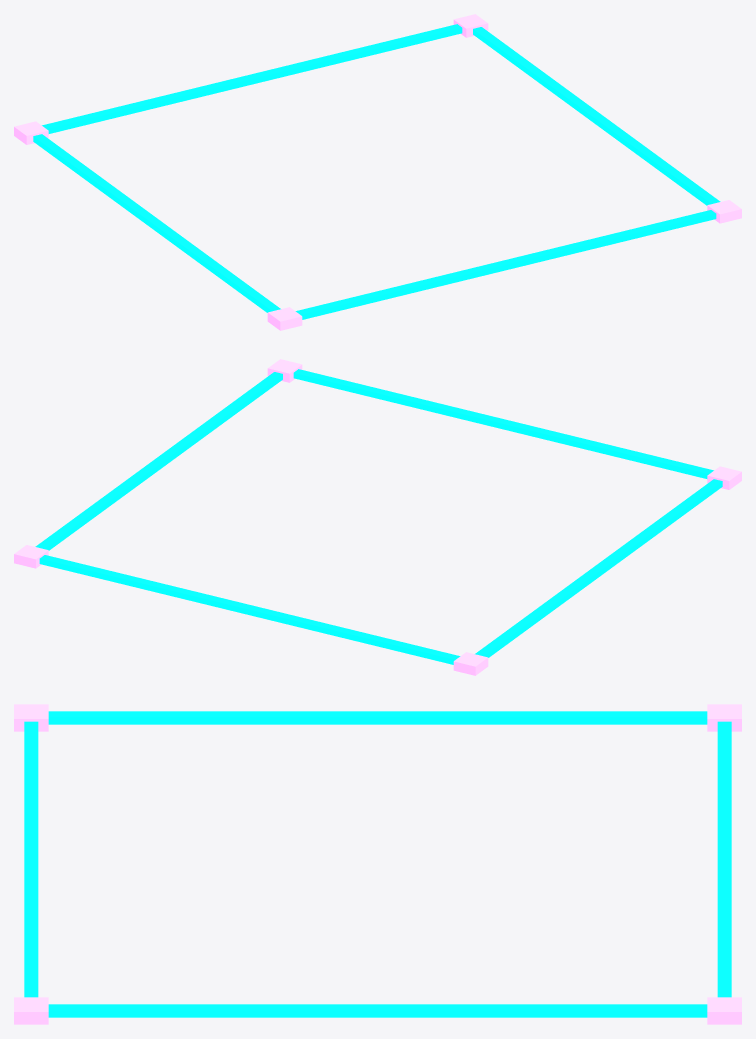
File: Build_ScanFrame.fbx
3 renders of one model, top to bottom at view 1: azimuth 30°, elevation 25°; view 2: azimuth 150°, elevation 25°; view 3: azimuth 270°, elevation 25°, orthographic. The views are drawn at different scales.
Parts seen in each view (by area): view 1: Scan_Bar1, Scan_Bar0, Scan_Bar3, Scan_Bar2, Scan_Corner3, Scan_Corner1, Scan_Corner2; view 2: Scan_Bar0, Scan_Bar1, Scan_Bar3, Scan_Bar2, Scan_Corner2, Scan_Corner0, Scan_Corner3; view 3: Scan_Bar2, Scan_Bar3, Scan_Bar0, Scan_Bar1, Scan_Corner0, Scan_Corner1, Scan_Corner2, Scan_Corner3.
Part boxes in pixels (box(x1,y1,x2,y2)): Scan_Bar1: box(295, 210, 716, 319); Scan_Bar0: box(42, 24, 462, 133); Scan_Bar3: box(33, 134, 280, 312); Scan_Bar2: box(473, 27, 720, 205); Scan_Corner3: box(267, 307, 302, 330); Scan_Corner1: box(707, 200, 741, 223); Scan_Corner2: box(14, 121, 48, 144); Scan_Bar0: box(39, 555, 460, 664); Scan_Bar1: box(293, 369, 713, 478); Scan_Bar3: box(475, 479, 722, 657); Scan_Bar2: box(35, 372, 282, 550); Scan_Corner2: box(453, 652, 488, 675); Scan_Corner0: box(14, 545, 48, 568); Scan_Corner3: box(707, 466, 741, 489); Scan_Bar2: box(48, 1004, 707, 1017); Scan_Bar3: box(48, 711, 707, 724); Scan_Bar0: box(717, 721, 731, 997); Scan_Bar1: box(24, 721, 38, 997); Scan_Corner0: box(707, 997, 741, 1024); Scan_Corner1: box(14, 997, 48, 1024); Scan_Corner2: box(707, 704, 741, 731); Scan_Corner3: box(14, 704, 48, 731).
Bounding box in the file's own units: 1.05 × 0.02 × 1.05.
